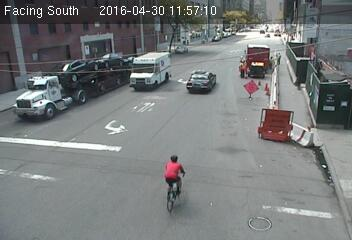neg: (152, 149, 201, 214)
pos: (232, 53, 251, 79), (273, 49, 285, 64)
